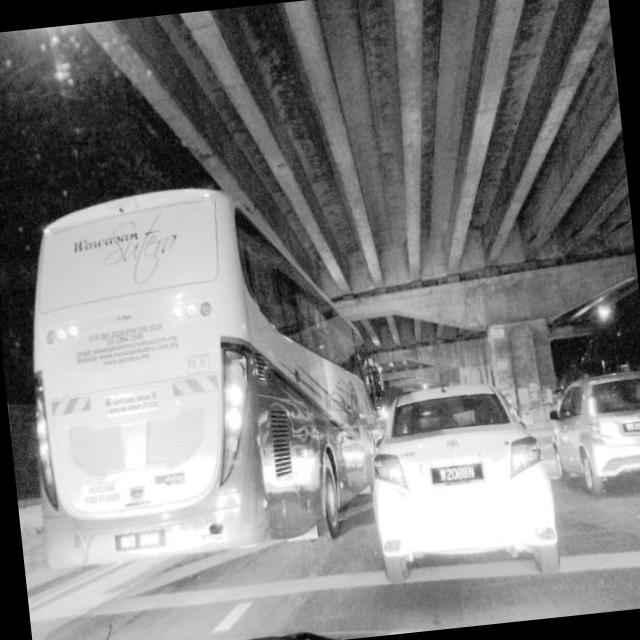Bus: (18, 137, 404, 594)
Car: (369, 370, 557, 604), (32, 586, 585, 640), (545, 362, 640, 539)
